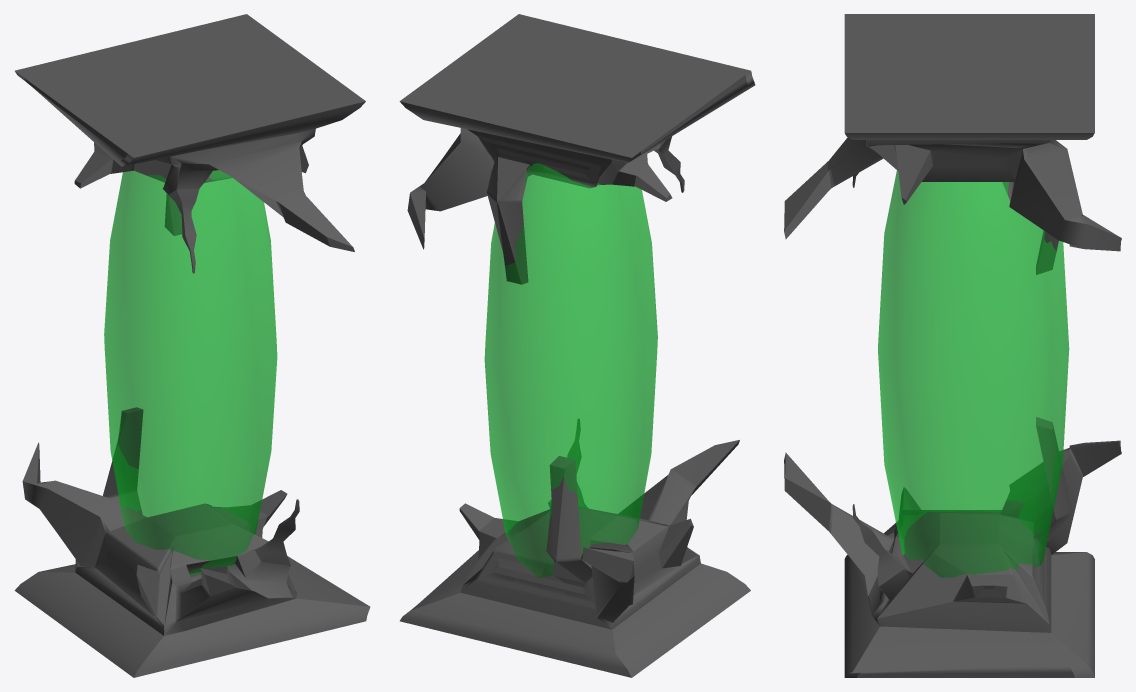
The model's file is Gate.fbx.
3 renders of one model, left to right at view 1: azimuth 30°, elevation 25°; view 2: azimuth 150°, elevation 25°; view 3: azimuth 270°, elevation 25°, orthographic. The views are drawn at different scales.
Visible parts, largest first — view 1: pCube3, pCube1, pCube2; view 2: pCube3, pCube2, pCube1; view 3: pCube3, pCube2, pCube1.
Part boxes in pixels (bbox=[...]): pCube3: bbox=[104, 170, 277, 575]; pCube1: bbox=[14, 407, 370, 677]; pCube2: bbox=[15, 14, 365, 273]; pCube3: bbox=[484, 163, 657, 578]; pCube2: bbox=[399, 14, 755, 284]; pCube1: bbox=[400, 419, 750, 677]; pCube3: bbox=[878, 170, 1069, 577]; pCube2: bbox=[784, 14, 1121, 274]; pCube1: bbox=[784, 417, 1121, 677].
Bounding box in the file's own units: 5.57 × 11.12 × 6.24.
